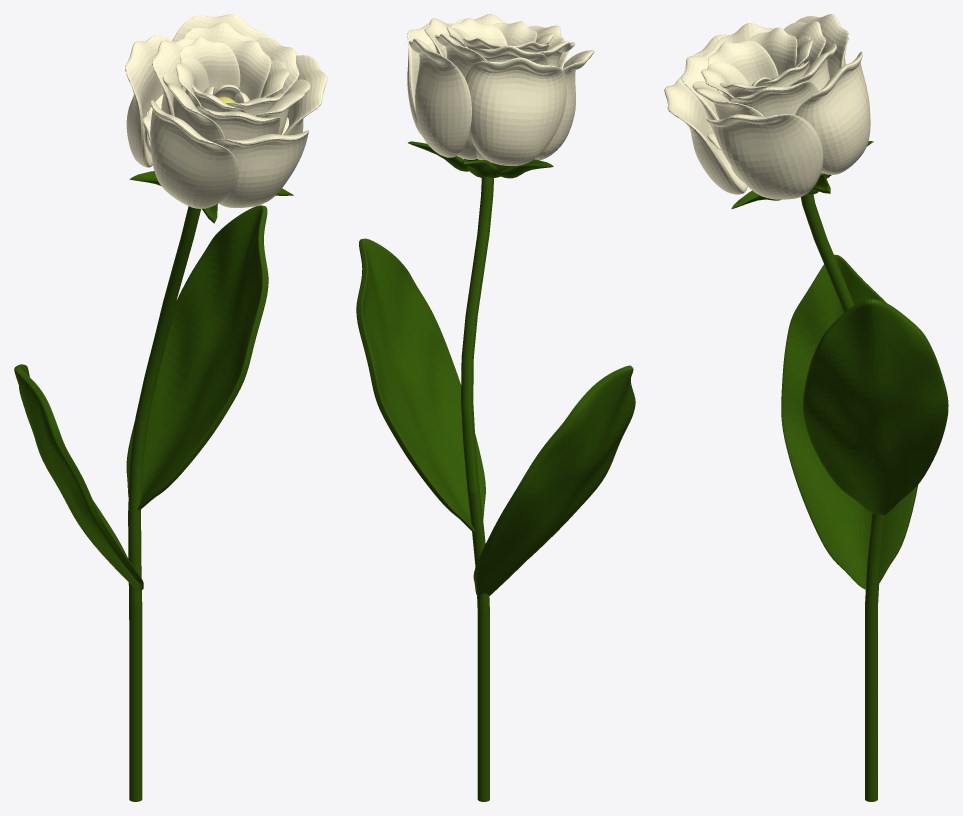
Rendered from Affection_lisian_mid.glb.
The picture shows the model from 3 angles, left to right: view 1: azimuth 30°, elevation 25°; view 2: azimuth 150°, elevation 25°; view 3: azimuth 270°, elevation 25°; orthographic projection. The views are drawn at different scales.
Visible parts, largest first — view 1: Cube.006, Cube.002, Cylinder, Cube.003, Cube.004, Cube.005; view 2: Cube.006, Cube.002, Cube.005, Cylinder, Cube.003, Cube.004, Sphere.001; view 3: Cube.006, Cube.002, Cube.005, Cube.003, Cylinder, Cube.004, Sphere.001.
Part boxes in pixels (x1=…): Cube.006: x1=126, y1=205, x2=268, y2=510; Cube.002: x1=125, y1=14, x2=327, y2=208; Cylinder: x1=128, y1=206, x2=200, y2=801; Cube.003: x1=152, y1=22, x2=310, y2=141; Cube.004: x1=175, y1=37, x2=289, y2=115; Cube.005: x1=14, y1=364, x2=143, y2=590; Cube.006: x1=356, y1=238, x2=485, y2=532; Cube.002: x1=407, y1=22, x2=594, y2=165; Cube.005: x1=473, y1=365, x2=635, y2=596; Cylinder: x1=461, y1=177, x2=493, y2=801; Cube.003: x1=424, y1=14, x2=575, y2=78; Cube.004: x1=446, y1=18, x2=554, y2=52; Sphere.001: x1=408, y1=141, x2=553, y2=178; Cube.006: x1=803, y1=299, x2=948, y2=515; Cube.002: x1=664, y1=14, x2=870, y2=199; Cube.005: x1=781, y1=254, x2=917, y2=589; Cube.003: x1=681, y1=21, x2=836, y2=119; Cylinder: x1=800, y1=194, x2=884, y2=801; Cube.004: x1=701, y1=27, x2=812, y2=101; Sphere.001: x1=731, y1=141, x2=873, y2=208.
Size of the model in its own units: 8.01 by 22.07 by 7.31.
